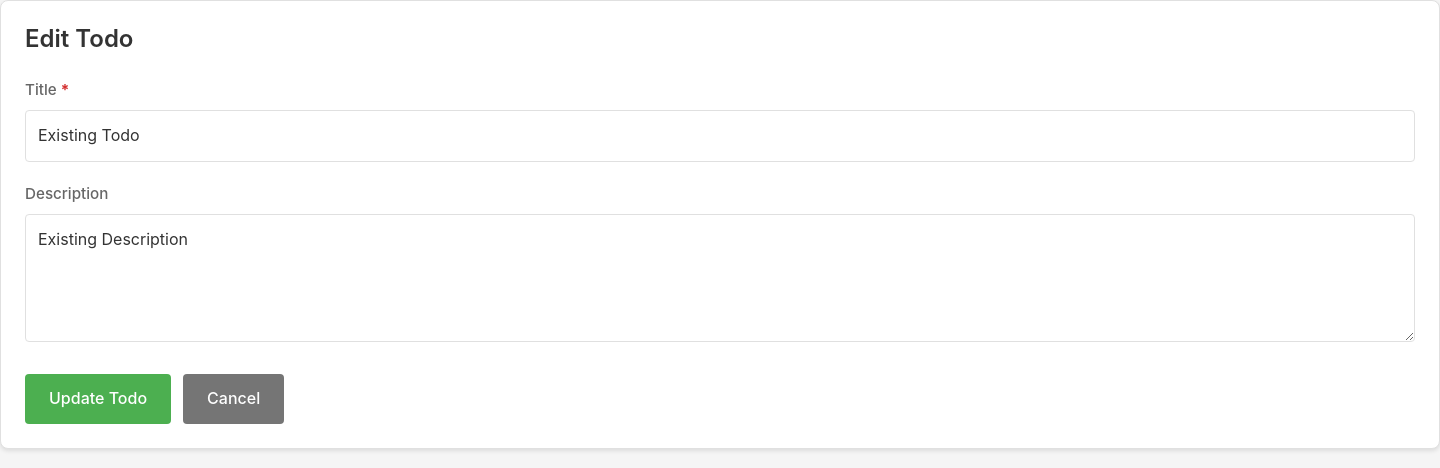
Test: TodoForm Component - Edit Mode › should clear form when cancel is clicked
This screenshot has width=1440, height=468.
Replace the text in the field with id "todo-title" with "Modified Title" at (720, 136), box [25,110,1415,162]
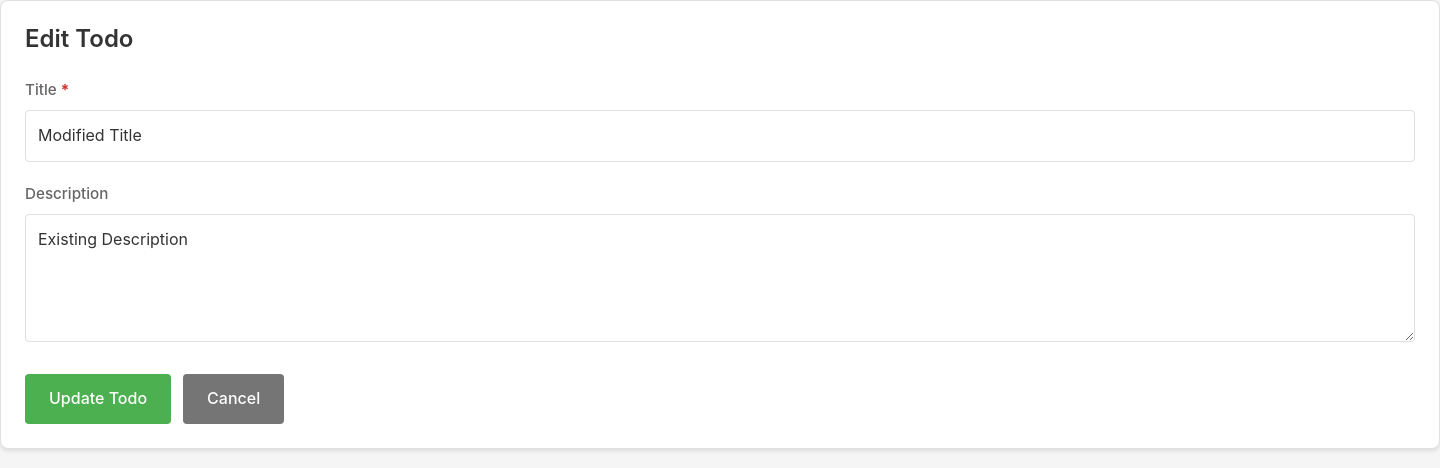
Click the button "Cancel" at (234, 399), box [183,374,284,424]
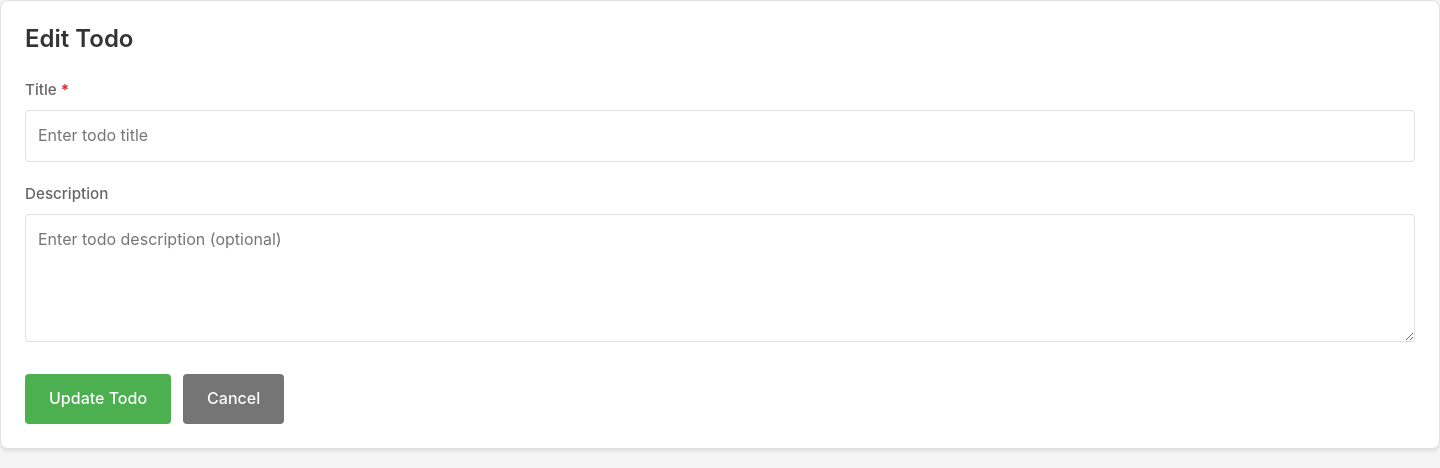
Expected: the field with id "todo-title" is empty, [25,110,1415,162]
Expected: the text box with id "todo-description" is empty, [25,214,1415,342]
